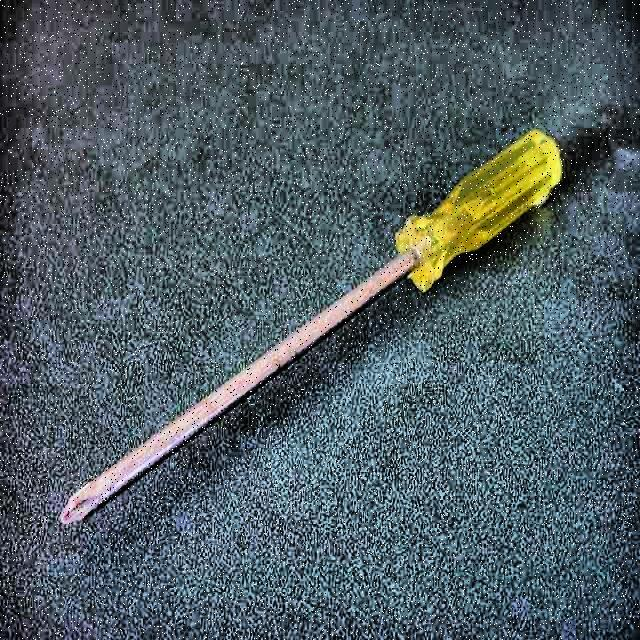screwdriver: (59, 128, 562, 527)
